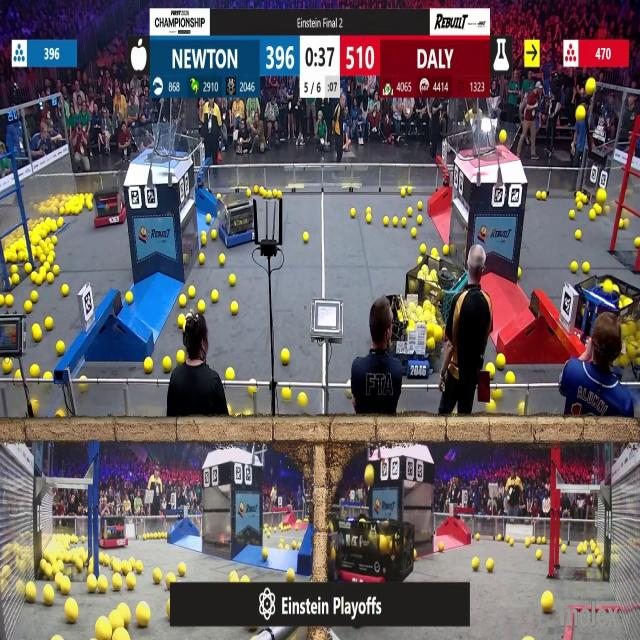ball_airborne: (364, 465, 373, 483), (587, 78, 596, 94), (576, 106, 584, 120), (499, 130, 506, 144)
ball_ground: (94, 618, 110, 640), (137, 606, 150, 629), (66, 602, 78, 624), (541, 592, 552, 612), (27, 586, 37, 604), (44, 588, 54, 606), (121, 610, 130, 629), (88, 578, 98, 594), (62, 580, 72, 596), (99, 579, 109, 594), (112, 574, 121, 590), (144, 357, 153, 372), (496, 354, 505, 369), (281, 349, 290, 364), (33, 328, 42, 343), (152, 568, 161, 583), (297, 392, 306, 407), (595, 191, 604, 205), (128, 574, 136, 589), (230, 570, 240, 582), (115, 631, 128, 640), (58, 342, 66, 356), (286, 568, 294, 582), (3, 359, 11, 373), (111, 560, 120, 572), (177, 351, 185, 364), (486, 559, 494, 572), (168, 572, 177, 583), (179, 562, 186, 576), (136, 560, 143, 574), (518, 404, 525, 418), (31, 364, 39, 376), (62, 284, 70, 296), (179, 294, 187, 306), (282, 388, 290, 400), (486, 362, 494, 374), (226, 366, 233, 379), (232, 303, 239, 316), (165, 357, 172, 370), (121, 560, 128, 573), (506, 372, 514, 383), (4, 295, 12, 306), (493, 389, 501, 400), (471, 558, 478, 570), (45, 318, 52, 330), (199, 301, 206, 313), (178, 316, 185, 328), (31, 290, 38, 302), (228, 276, 235, 288), (489, 399, 496, 411), (126, 292, 134, 302), (212, 289, 218, 302), (26, 302, 33, 313), (188, 286, 195, 297), (54, 266, 61, 277), (11, 275, 18, 286), (58, 411, 66, 420), (40, 267, 48, 276), (596, 207, 604, 216), (428, 339, 434, 351), (444, 245, 451, 255), (46, 274, 53, 284), (588, 556, 595, 566), (46, 254, 53, 264), (49, 237, 56, 247), (89, 564, 96, 574), (571, 263, 577, 274), (584, 263, 590, 274), (264, 549, 270, 560), (32, 273, 38, 284), (242, 574, 250, 582), (524, 538, 531, 547), (259, 187, 266, 196), (219, 254, 225, 264), (574, 231, 580, 241), (517, 270, 523, 280), (40, 254, 46, 264), (590, 210, 596, 220), (74, 205, 80, 215), (99, 554, 105, 564), (249, 386, 256, 394), (540, 191, 547, 199), (44, 370, 51, 378), (510, 538, 517, 546), (200, 253, 205, 264), (59, 217, 64, 228), (400, 217, 406, 226), (569, 210, 575, 219), (418, 202, 424, 211), (26, 265, 32, 274), (365, 214, 371, 223), (14, 369, 20, 378), (60, 207, 66, 216), (182, 254, 188, 263), (88, 203, 94, 212), (268, 188, 274, 197), (413, 229, 418, 239), (421, 245, 426, 255), (635, 238, 640, 248), (304, 233, 309, 243), (351, 208, 356, 218), (227, 407, 232, 417), (431, 248, 437, 256), (576, 203, 582, 211), (11, 266, 17, 274), (576, 545, 582, 553), (274, 189, 280, 197), (440, 541, 445, 550), (536, 551, 541, 560), (620, 219, 625, 228), (413, 551, 418, 560), (0, 294, 4, 305), (206, 215, 212, 222), (365, 207, 371, 214), (212, 229, 216, 239), (202, 238, 207, 246), (400, 188, 405, 196), (247, 188, 252, 196), (384, 217, 388, 226), (418, 215, 422, 224), (393, 217, 397, 226), (497, 534, 502, 541), (408, 188, 413, 195), (418, 255, 423, 262), (409, 208, 413, 216), (562, 544, 566, 552), (536, 190, 540, 198), (55, 636, 63, 640), (202, 232, 206, 240), (292, 540, 296, 548), (279, 542, 284, 548), (475, 533, 479, 540), (216, 192, 220, 199), (280, 537, 284, 543)
goal: (466, 123, 524, 160), (130, 129, 188, 160)
robot_blue: (367, 307, 433, 372), (220, 190, 257, 248)
robot_red: (404, 250, 468, 348), (598, 513, 640, 633), (332, 515, 386, 582), (93, 189, 125, 227), (100, 514, 128, 548)
